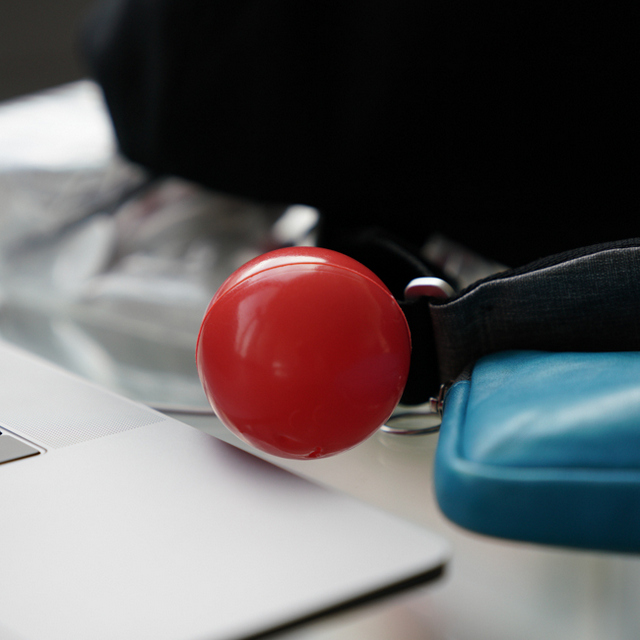Ball: (201, 246, 411, 459)
